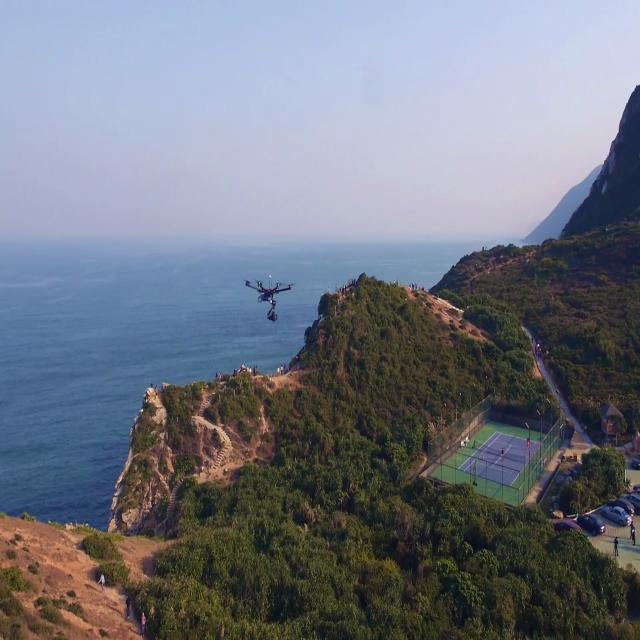drone: (243, 272, 299, 327)
